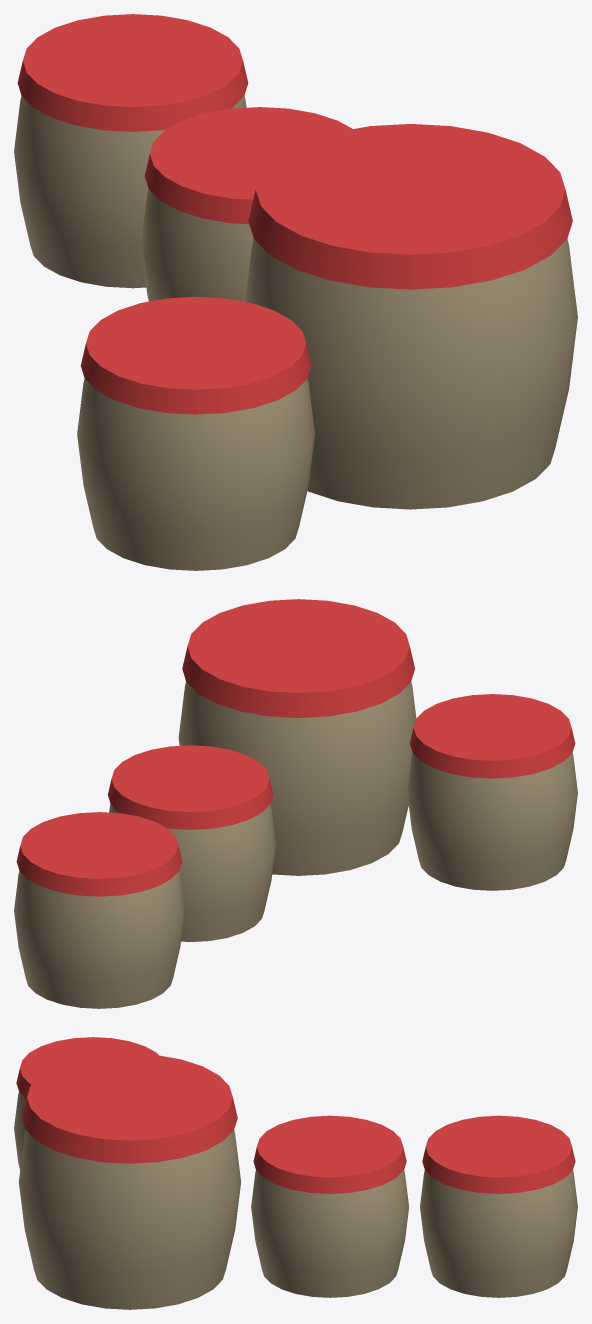
The model's file is tarros.fbx.
The picture shows the model from 3 angles, top to bottom: view 1: azimuth 30°, elevation 25°; view 2: azimuth 150°, elevation 25°; view 3: azimuth 270°, elevation 25°; orthographic projection. The views are drawn at different scales.
Parts seen in each view (by area): view 1: tarros; view 2: tarros; view 3: tarros.
Boxes of the visible parts, left/top/right/bottom form: tarros: left=14, top=14, right=577, bottom=570; tarros: left=14, top=599, right=577, bottom=1008; tarros: left=14, top=1037, right=577, bottom=1309.
Bounding box in the file's own units: 83.95 × 42.38 × 126.
